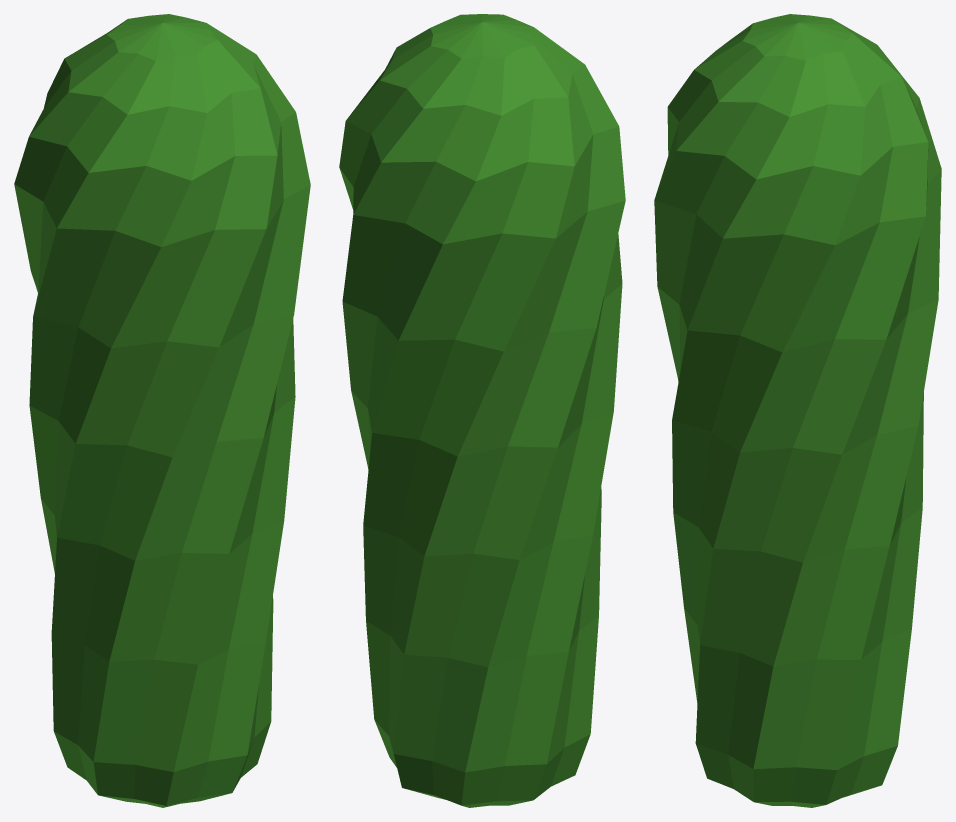
The model's file is Cactus_16_A.fbx.
3 renders of one model, left to right at view 1: azimuth 30°, elevation 25°; view 2: azimuth 150°, elevation 25°; view 3: azimuth 270°, elevation 25°, orthographic.
Parts seen in each view (by area): view 1: Cactus_16_A; view 2: Cactus_16_A; view 3: Cactus_16_A.
Part boxes in pixels (box(x1,y1,x2,y2)): Cactus_16_A: box(14, 14, 310, 807); Cactus_16_A: box(339, 14, 625, 807); Cactus_16_A: box(654, 14, 941, 807).
Bounding box in the file's own units: 58.19 × 171 × 58.19.
